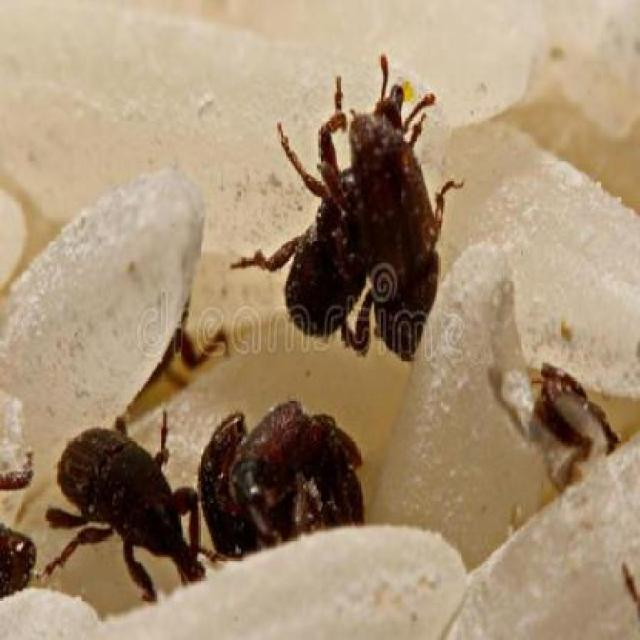rice-bug: (286, 93, 440, 347), (207, 397, 364, 563), (61, 412, 194, 606), (532, 357, 614, 472), (0, 525, 37, 600)
